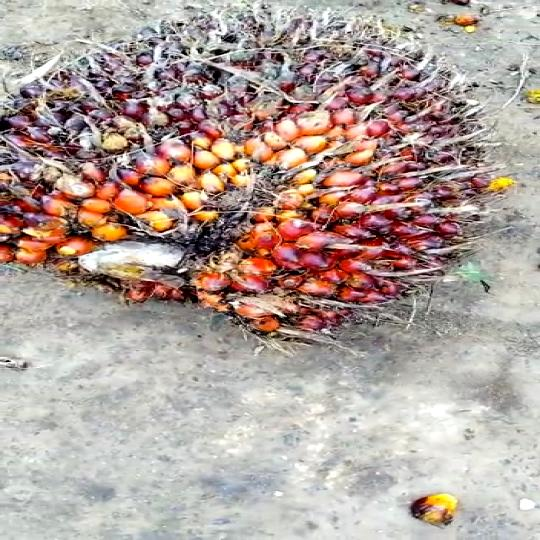masak: (0, 0, 540, 354)
